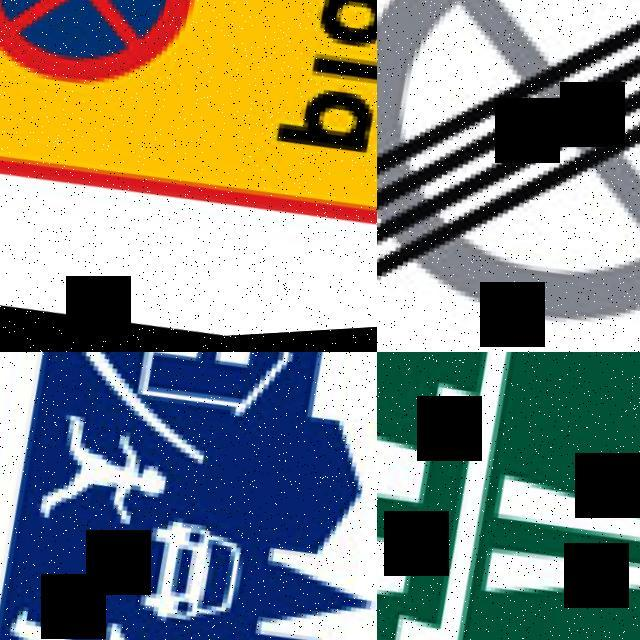111: (377, 0, 640, 352)
177: (0, 0, 377, 280)
52: (0, 352, 377, 640)
Motorway: (377, 352, 640, 640)
